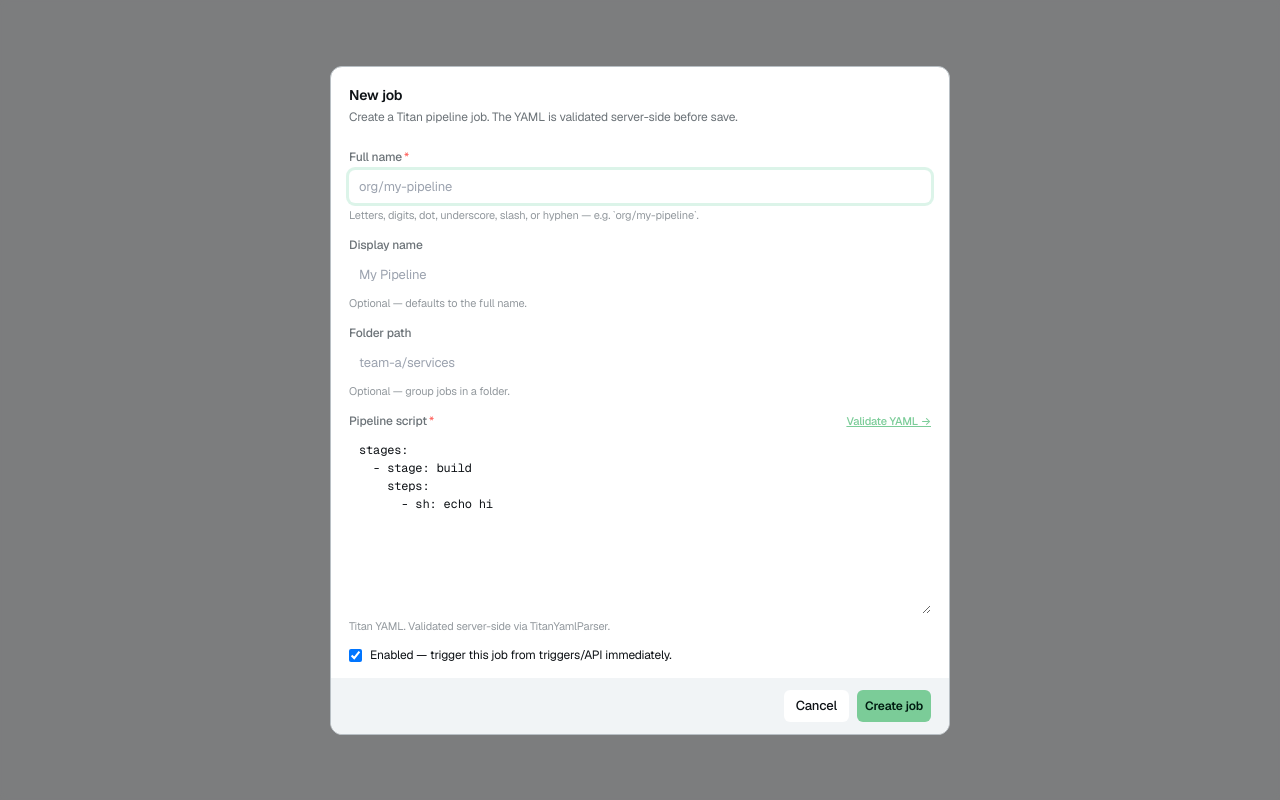
Test: NewJobDialog › on 400, renders the parser detail BELOW the textarea, NOT in a toast
Type "org/sample" into the field with test id "new-job-fullname".
click(640, 186); type("org/sample")  # box [349,170,931,203]
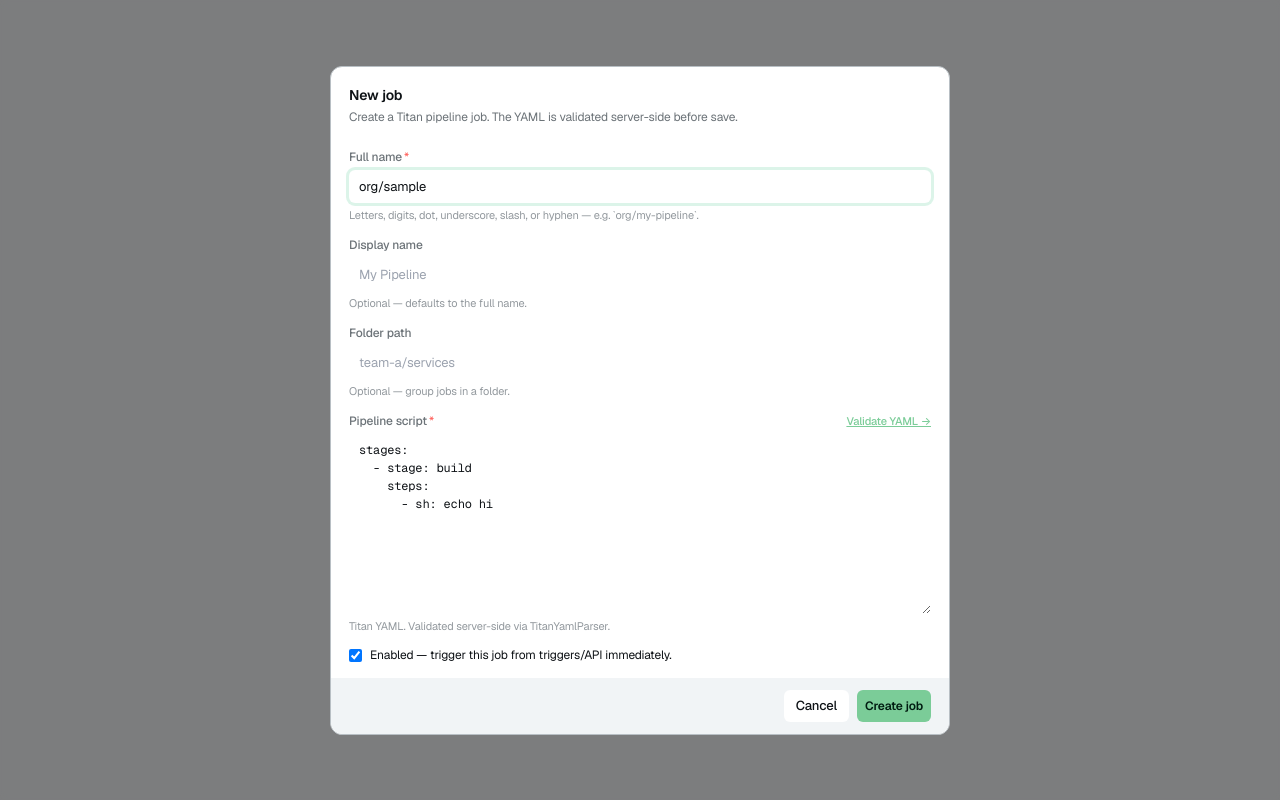
Click the button with test id "new-job-submit".
click(894, 706)  # box [857,690,931,722]
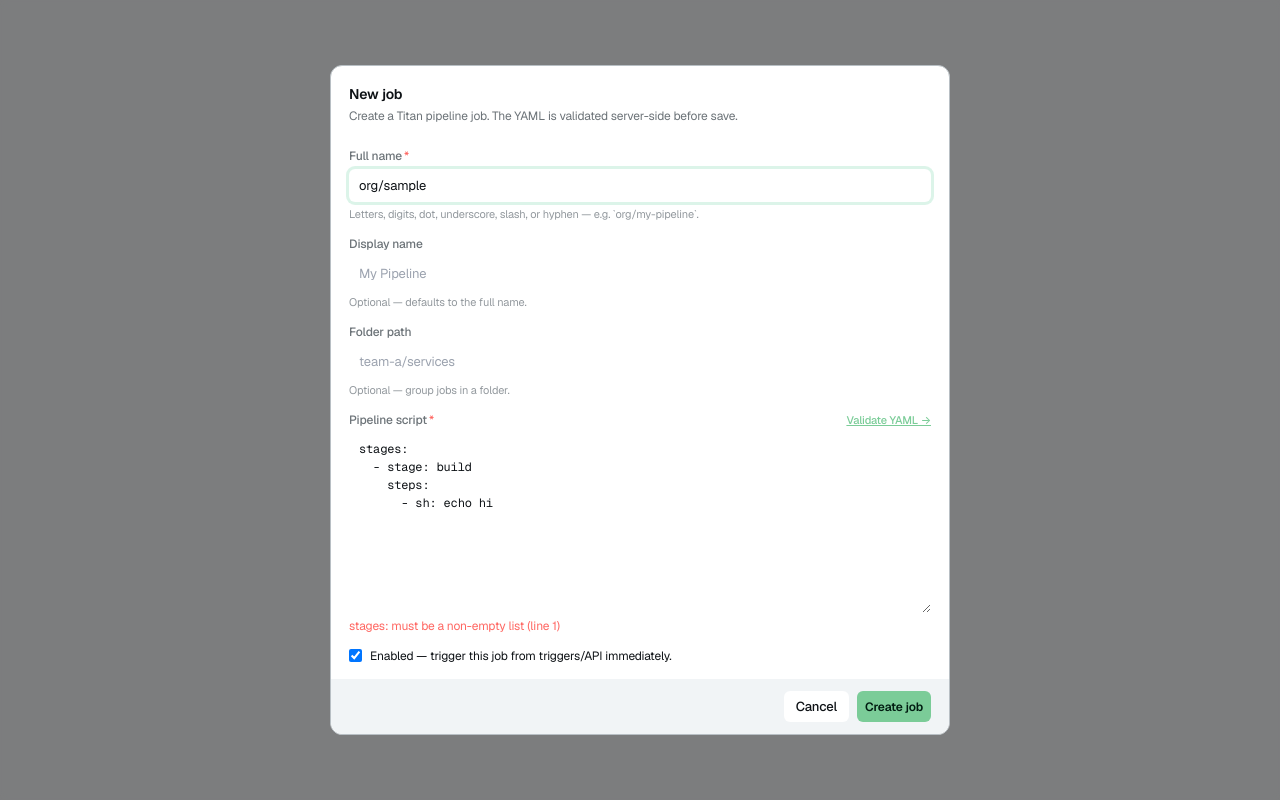
Result: the message with test id "new-job-script-error" shows "stages: must be a non-empty list" at [349,618,560,634]
